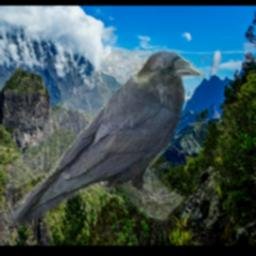Crow: (7, 50, 204, 226)
